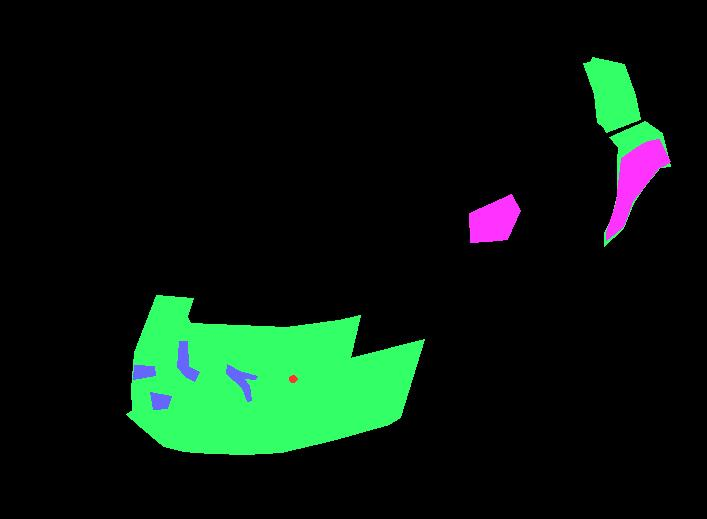Broken part: (126, 295, 424, 454), (604, 121, 670, 246), (583, 57, 640, 132), (241, 405, 316, 428)
Dent: (606, 139, 670, 240), (469, 194, 520, 242)
Missing part: (289, 375, 297, 382)
Scratch: (226, 364, 257, 401), (177, 341, 199, 381), (150, 392, 171, 409), (133, 365, 155, 379)
